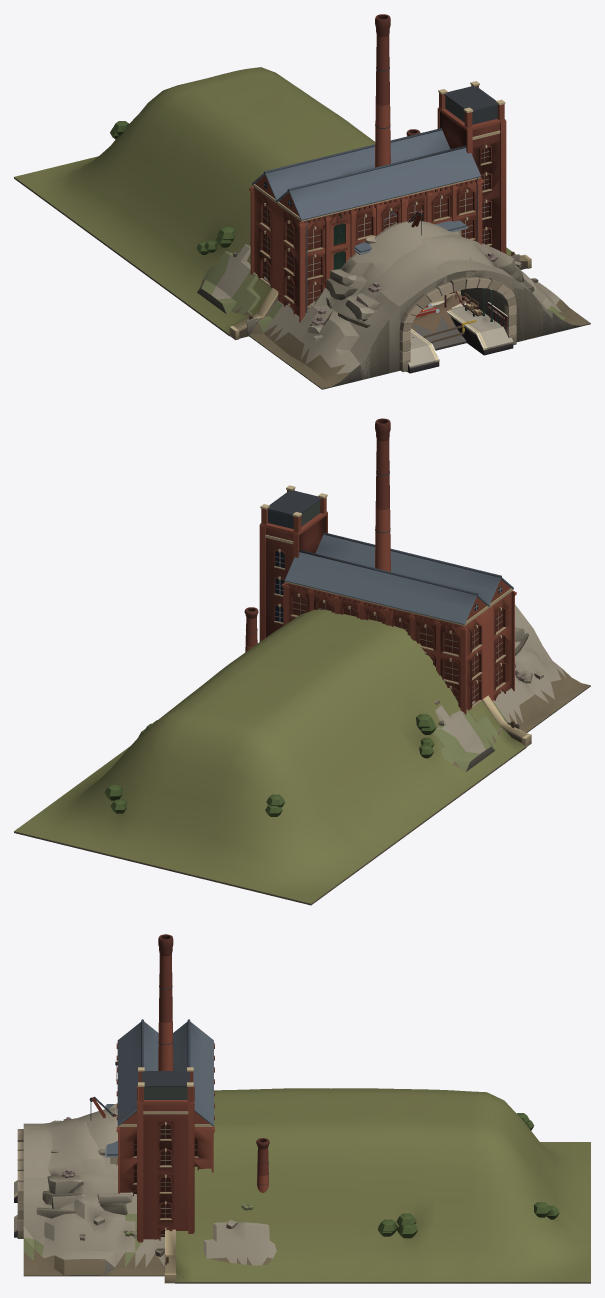
Rendered from works-51f1f67e.glb.
3 views of the same model, one above another, from view 1: azimuth 30°, elevation 25°; view 2: azimuth 150°, elevation 25°; view 3: azimuth 270°, elevation 25° (orthographic). The views are drawn at different scales.
Visible parts, largest first — view 1: tunnel_rail-mesh, mill_big-mesh, outcrop_a-mesh, outcrop_b-mesh, station_platforms-mesh, chimney-mesh, subsidence-mesh, station_platforms_grand-mesh, station_grand-mesh; view 2: tunnel_rail-mesh, mill_big-mesh, outcrop_b-mesh, outcrop_a-mesh, chimney-mesh; view 3: tunnel_rail-mesh, mill_big-mesh, outcrop_a-mesh, outcrop_b-mesh, chimney-mesh, mill_site-mesh.
Part boxes in pixels (x1,y1,x2,y2): tunnel_rail-mesh: (14,67,531,340); mill_big-mesh: (249,81,506,322); outcrop_a-mesh: (250,235,590,389); outcrop_b-mesh: (197,220,590,389); station_platforms-mesh: (407,288,513,373); chimney-mesh: (375,14,390,167); subsidence-mesh: (411,294,476,348); station_platforms_grand-mesh: (410,289,507,355); station_grand-mesh: (353,220,468,310); tunnel_rail-mesh: (14,609,531,905); mill_big-mesh: (259,485,516,714); outcrop_b-mesh: (433,627,590,772); outcrop_a-mesh: (515,604,590,732); chimney-mesh: (375,418,390,571); tunnel_rail-mesh: (164,1088,590,1283); mill_big-mesh: (115,1019,214,1242); outcrop_a-mesh: (17,1118,276,1276); outcrop_b-mesh: (17,1104,162,1276); chimney-mesh: (158,934,173,1070); mill_site-mesh: (256,1138,269,1192).
Size of the model in its own units: 1.09 by 1.01 by 1.9.
